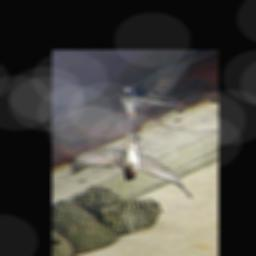Swallow: (66, 128, 195, 200)
